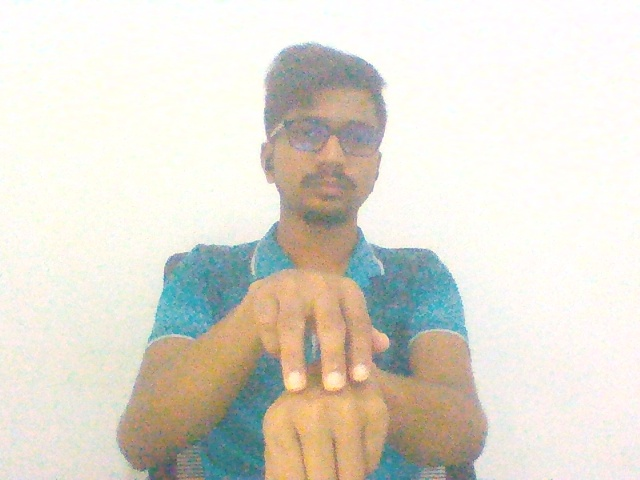papaya: (207, 247, 418, 480)
